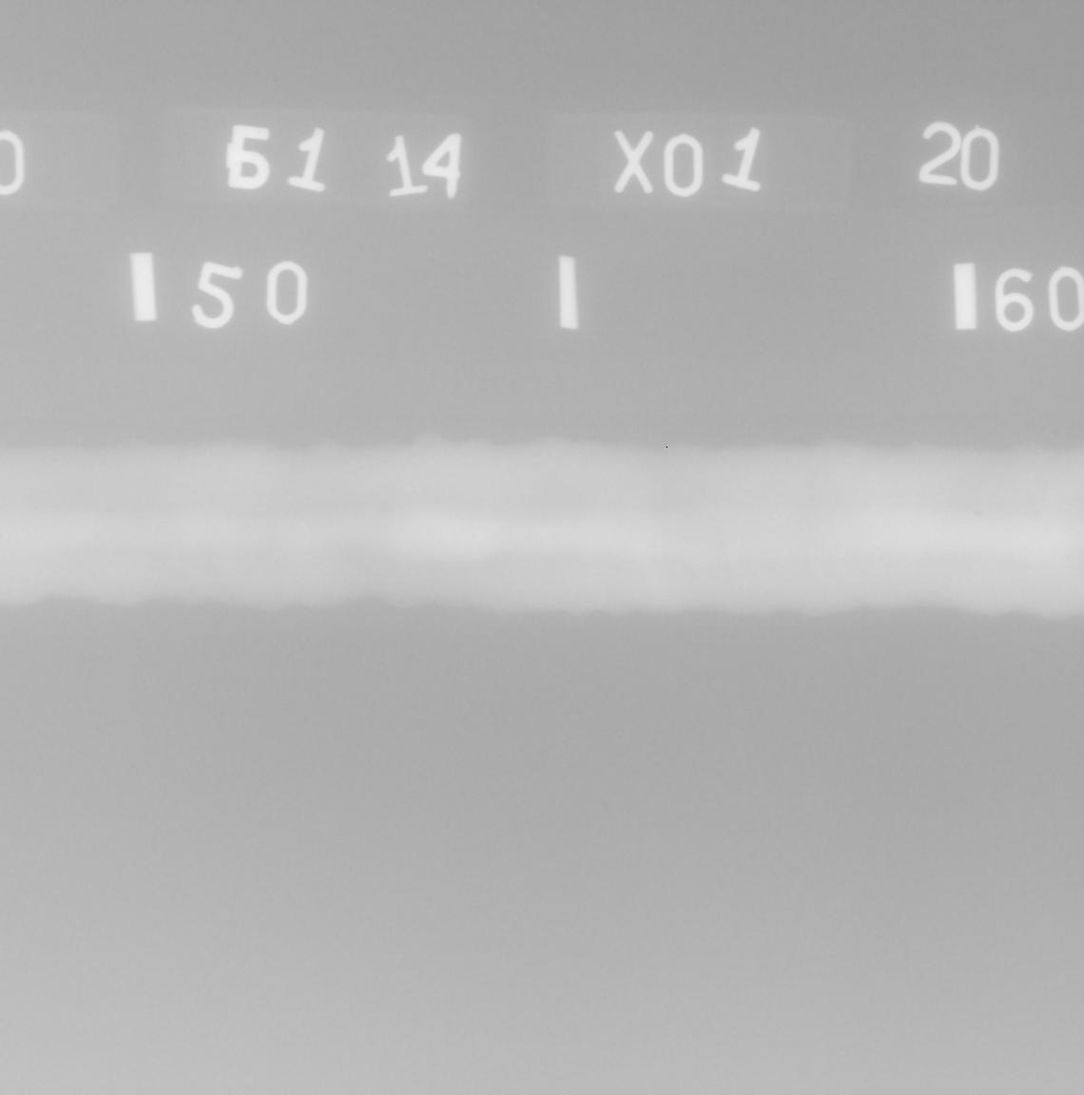Pore/Porosity: (976, 511, 983, 516)
